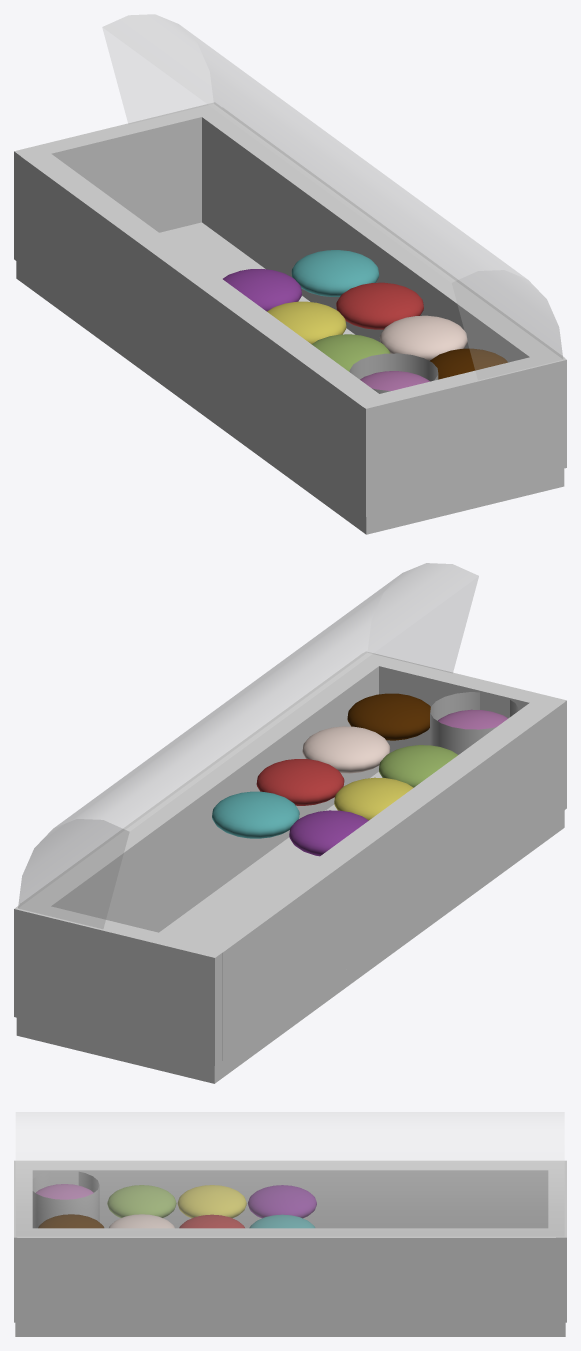
Rendered from icecreambar.fbx.
The picture shows the model from 3 angles, top to bottom: view 1: azimuth 30°, elevation 25°; view 2: azimuth 150°, elevation 25°; view 3: azimuth 270°, elevation 25°; orthographic projection. The views are drawn at different scales.
Visible parts, largest first — view 1: pCube6, pCylinder2, pSphere6, pSphere7, pSphere3, pSphere5, pSphere8, pCylinder1, pSphere4, pSphere2, pSphere1; view 2: pCube6, pCylinder2, pSphere7, pSphere3, pSphere6, pSphere2, pSphere8, pCylinder1, pSphere4, pSphere5, pSphere1; view 3: pCube6, pCylinder2, pCylinder1, pSphere5, pSphere8, pSphere4, pSphere2, pSphere3, pSphere6, pSphere7, pSphere1.
Boxes of the visible parts, left/top/right/bottom form: pCube6: left=14, top=102, right=566, bottom=534; pCylinder2: left=102, top=14, right=563, bottom=379; pSphere6: left=336, top=282, right=423, bottom=329; pSphere7: left=291, top=250, right=379, bottom=296; pSphere3: left=380, top=315, right=467, bottom=360; pSphere5: left=267, top=301, right=346, bottom=344; pSphere8: left=223, top=269, right=301, bottom=311; pCylinder1: left=349, top=353, right=438, bottom=393; pSphere4: left=312, top=334, right=390, bottom=371; pSphere2: left=430, top=348, right=507, bottom=379; pSphere1: left=360, top=371, right=429, bottom=390; pCube6: left=14, top=651, right=566, bottom=1083; pCylinder2: left=18, top=563, right=478, bottom=928; pSphere7: left=212, top=791, right=299, bottom=838; pSphere3: left=302, top=726, right=390, bottom=773; pSphere6: left=256, top=759, right=344, bottom=805; pSphere2: left=347, top=693, right=430, bottom=740; pSphere8: left=289, top=810, right=368, bottom=856; pCylinder1: left=430, top=692, right=518, bottom=754; pSphere4: left=379, top=745, right=457, bottom=787; pSphere5: left=334, top=777, right=413, bottom=820; pSphere1: left=438, top=709, right=507, bottom=729; pCube6: left=14, top=1160, right=566, bottom=1336; pCylinder2: left=16, top=1112, right=564, bottom=1236; pCylinder1: left=32, top=1171, right=99, bottom=1228; pSphere5: left=177, top=1185, right=246, bottom=1218; pSphere8: left=247, top=1185, right=316, bottom=1218; pSphere4: left=107, top=1185, right=176, bottom=1217; pSphere2: left=38, top=1214, right=104, bottom=1228; pSphere3: left=109, top=1214, right=174, bottom=1228; pSphere6: left=179, top=1214, right=244, bottom=1228; pSphere7: left=249, top=1214, right=315, bottom=1228; pSphere1: left=36, top=1184, right=93, bottom=1199.
Bounding box in the file's own units: 1.96 × 2.19 × 5.9.
